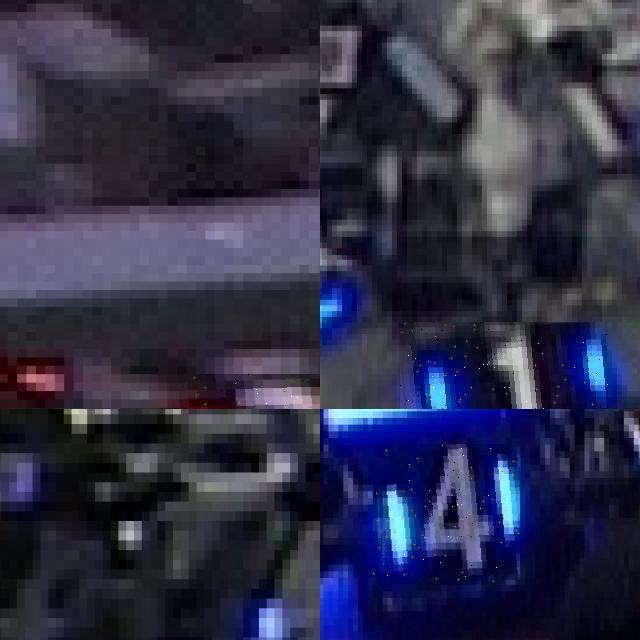B1: (399, 322, 609, 409), (320, 219, 354, 328)
B4: (373, 444, 520, 584)
